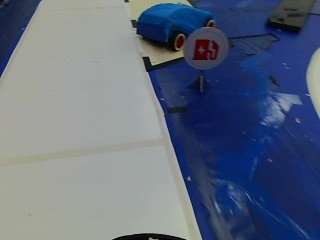battery: (186, 30, 224, 67)
car: (130, 3, 217, 47)
